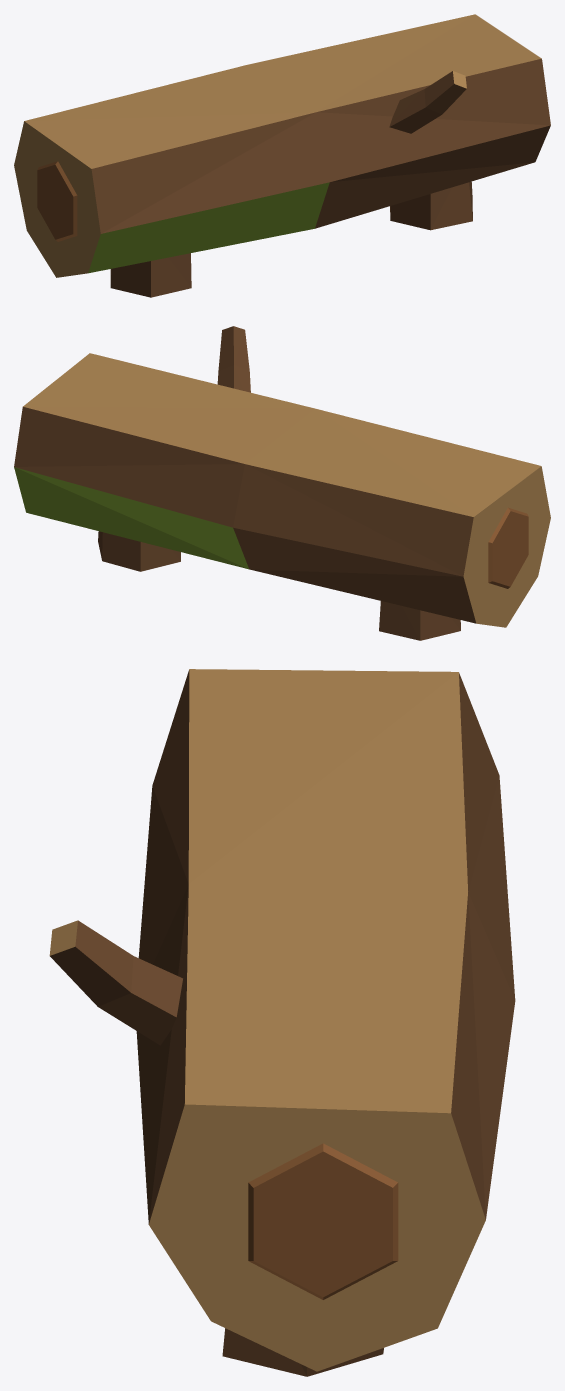
File: log_seat.glb
3 views of the same model, one above another, from view 1: azimuth 30°, elevation 25°; view 2: azimuth 150°, elevation 25°; view 3: azimuth 270°, elevation 25° (orthographic). The views are drawn at different scales.
Parts seen in each view (by area): view 1: log_seat; view 2: log_seat; view 3: log_seat.
Boxes of the visible parts, bbox=[...] form: log_seat: bbox=[14, 14, 550, 297]; log_seat: bbox=[14, 326, 550, 640]; log_seat: bbox=[49, 669, 515, 1376].
Bounding box in the file's own units: 1.01 × 0.4053 × 0.4488.
